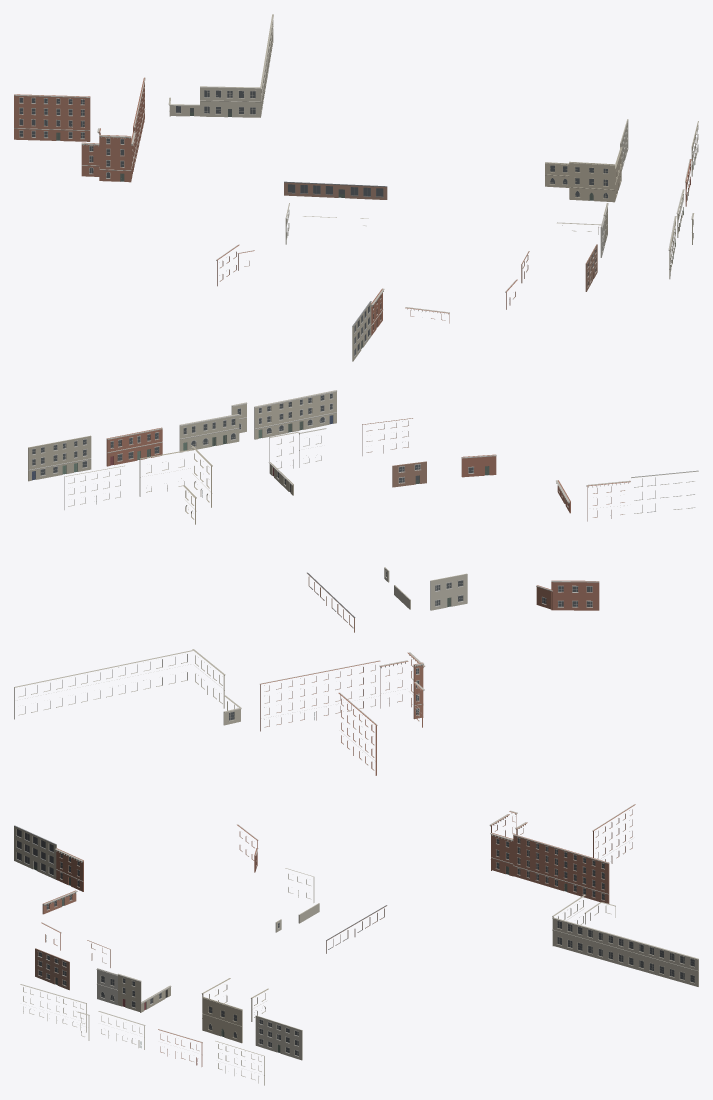
3 views of the same model, one above another, from view 1: azimuth 30°, elevation 25°; view 2: azimuth 150°, elevation 25°; view 3: azimuth 270°, elevation 25° (orthographic). The views are drawn at different scales.
Visible parts, largest first — view 1: f:way/474859746, f:way/39185783, f:way/134814871, f:way/108047434, f:way/134802639; view 2: f:way/134822937, f:way/474859746, f:way/134822933, f:way/171233692, f:way/134822935, f:way/171236163, f:way/39185783, f:way/134811800, f:way/134811795, f:way/134814871; view 3: f:way/474859746, f:way/39185783, f:way/134814871, f:way/134802639, f:way/134814883, f:way/134811800, f:way/134814874, f:way/134802636, f:way/134822937, f:way/134814873, f:way/171236163.
Boxes of the visible parts, x1,y1,x2,y2 form: f:way/474859746: [14, 77, 145, 182]; f:way/39185783: [168, 14, 273, 117]; f:way/134814871: [545, 147, 622, 202]; f:way/108047434: [284, 181, 387, 199]; f:way/134802639: [352, 301, 371, 361]; f:way/134822937: [179, 390, 336, 452]; f:way/474859746: [260, 652, 425, 775]; f:way/134822933: [28, 435, 91, 481]; f:way/171233692: [536, 580, 599, 610]; f:way/134822935: [106, 427, 162, 466]; f:way/171236163: [384, 567, 467, 610]; f:way/39185783: [14, 649, 241, 725]; f:way/134811800: [362, 418, 426, 487]; f:way/134811795: [461, 454, 496, 477]; f:way/134814871: [139, 445, 212, 524]; f:way/474859746: [489, 804, 635, 903]; f:way/39185783: [552, 894, 698, 986]; f:way/134814871: [201, 978, 268, 1043]; f:way/134802639: [14, 825, 56, 879]; f:way/134814883: [255, 1015, 302, 1060]; f:way/134811800: [35, 940, 110, 990]; f:way/134814874: [117, 973, 171, 1012]; f:way/134802636: [55, 848, 83, 891]; f:way/134822937: [20, 984, 145, 1049]; f:way/134814873: [96, 968, 117, 1005]; f:way/171236163: [275, 868, 319, 932].
Size of the model in its own units: 143 by 13.48 by 172.
